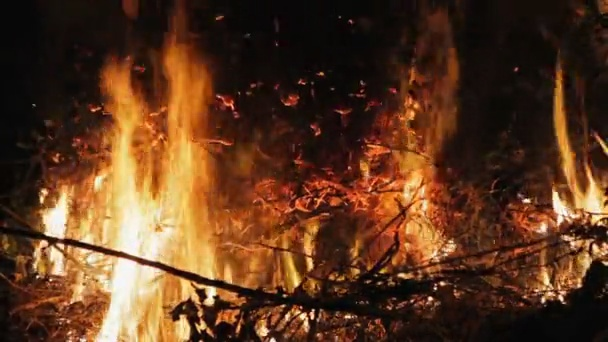fire: (35, 49, 233, 342), (553, 161, 608, 267), (397, 171, 440, 263), (541, 270, 563, 303)
